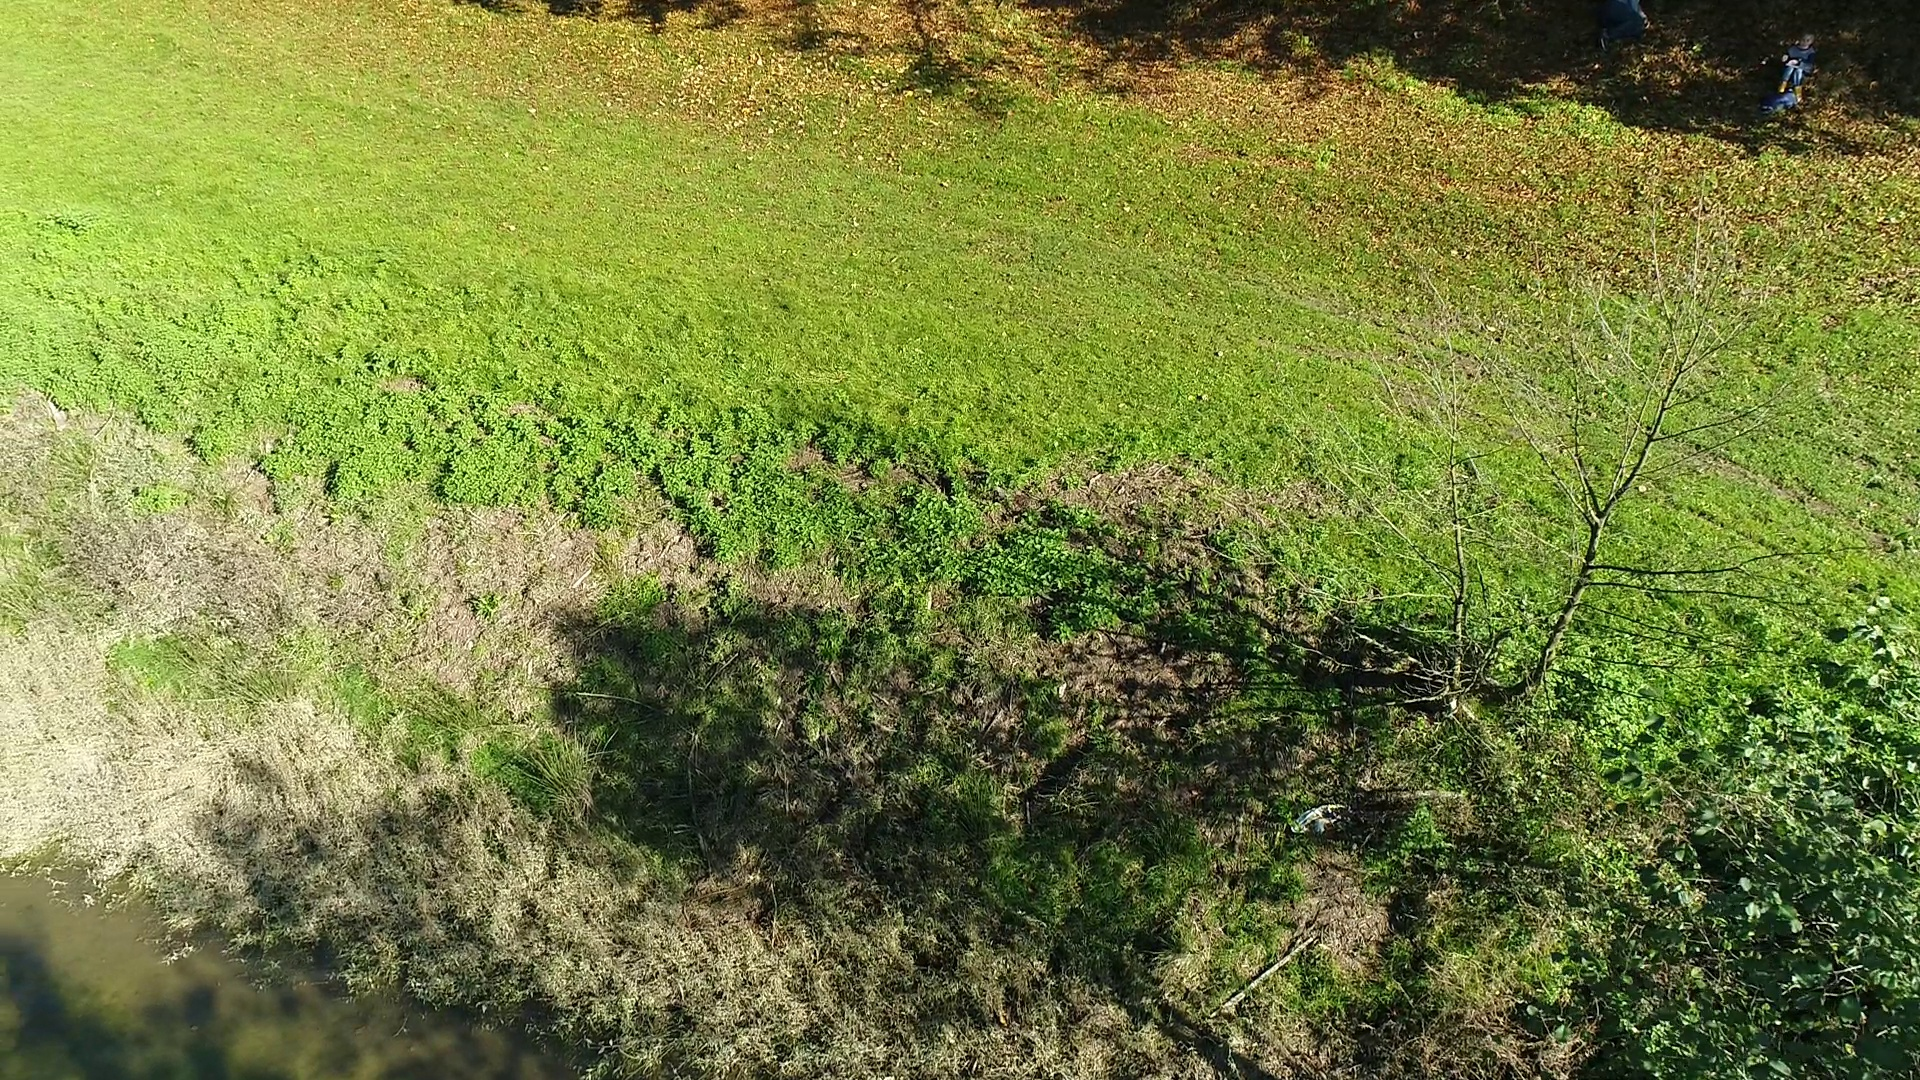person: (1777, 31, 1817, 104), (1601, 1, 1650, 51)
